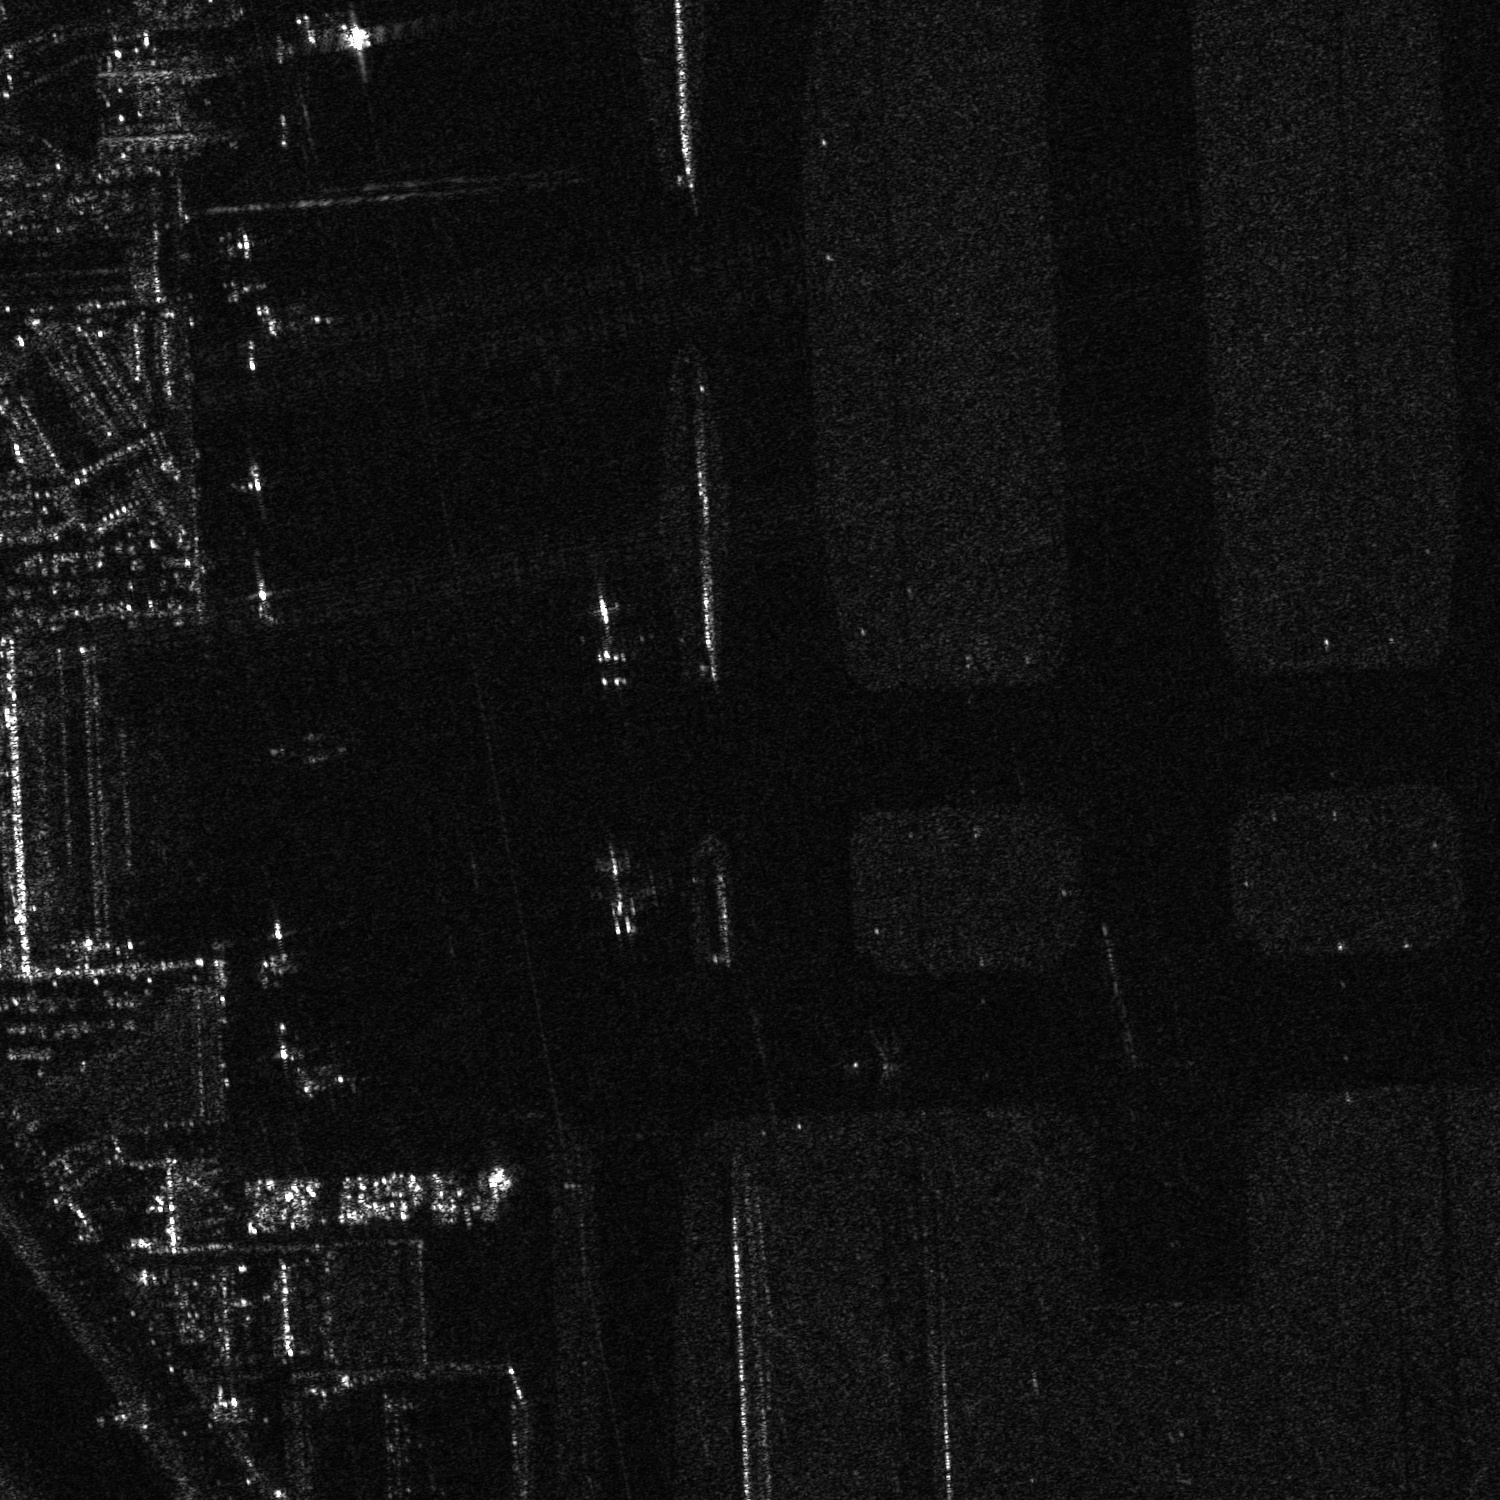A220: (236, 569, 291, 624), (250, 918, 302, 975), (235, 463, 280, 518), (261, 1019, 306, 1073), (212, 229, 271, 264), (245, 299, 282, 341)
other: (560, 852, 674, 935), (565, 591, 648, 687), (283, 1069, 349, 1103), (218, 277, 275, 304)
